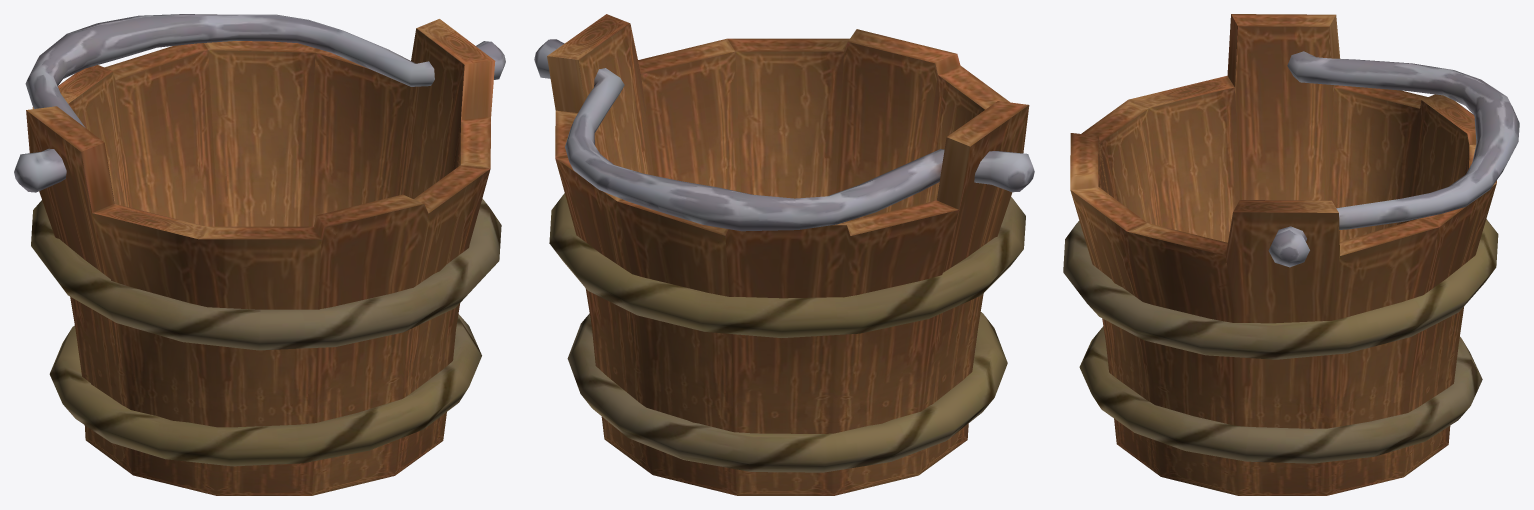
Rendered from Bucket_Wooden_1.glb.
The picture shows the model from 3 angles, left to right: view 1: azimuth 30°, elevation 25°; view 2: azimuth 150°, elevation 25°; view 3: azimuth 270°, elevation 25°; orthographic projection. The views are drawn at different scales.
Visible parts, largest first — view 1: Bucket_Wooden_1; view 2: Bucket_Wooden_1; view 3: Bucket_Wooden_1.
Part boxes in pixels (x1=…): Bucket_Wooden_1: x1=14, y1=14, x2=505, y2=495; Bucket_Wooden_1: x1=534, y1=14, x2=1034, y2=495; Bucket_Wooden_1: x1=1063, y1=14, x2=1519, y2=495.
Bounding box in the file's own units: 0.4339 × 0.2928 × 0.3834.
Materials: 2 (2 with a texture image).
